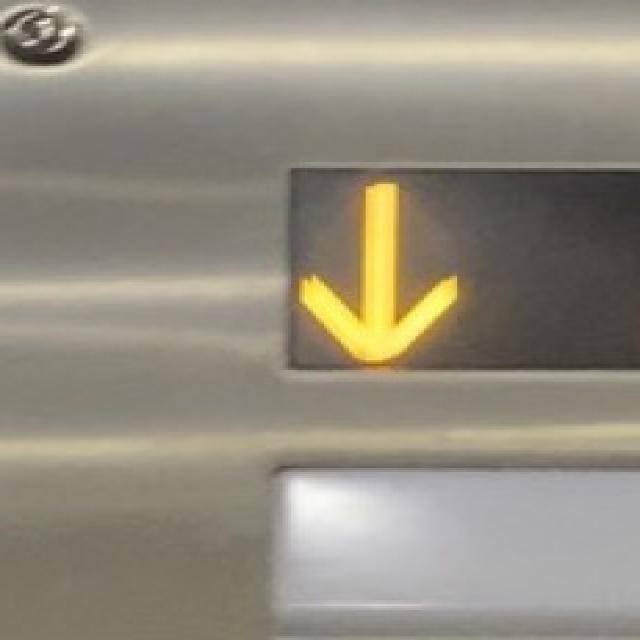box: (211, 150, 615, 386)
